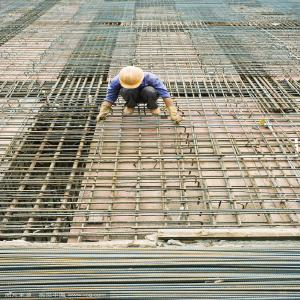yellow: (116, 65, 148, 92)
